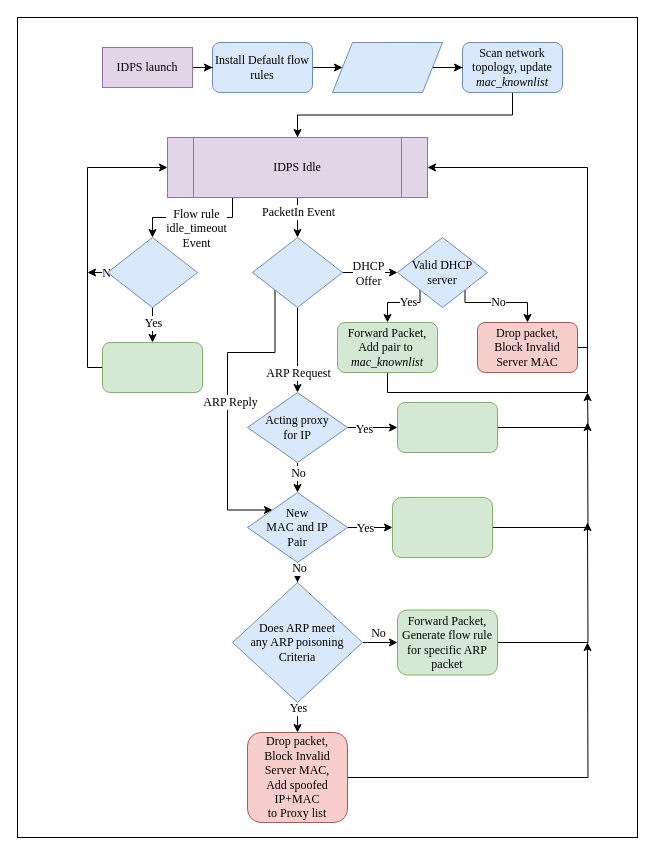
The diagram is 655 pixels wide and 855 high, and some of its shapes have lost their labels. The shapes that lost their labels are listed below. From the top down, each one's centre as x and y in pixels, then its label:
the point at 387,67: Load DHCP_whitelist , mac_knownlist
the point at 152,272: MAC blocking rule
the point at 297,272: Packet Type
the point at 152,367: Remove MAC and IP from acting proxy list
the point at 447,427: Generate ARP reply
the point at 442,527: Forward Packet, Add pair to mac_knownlist as Static IP
